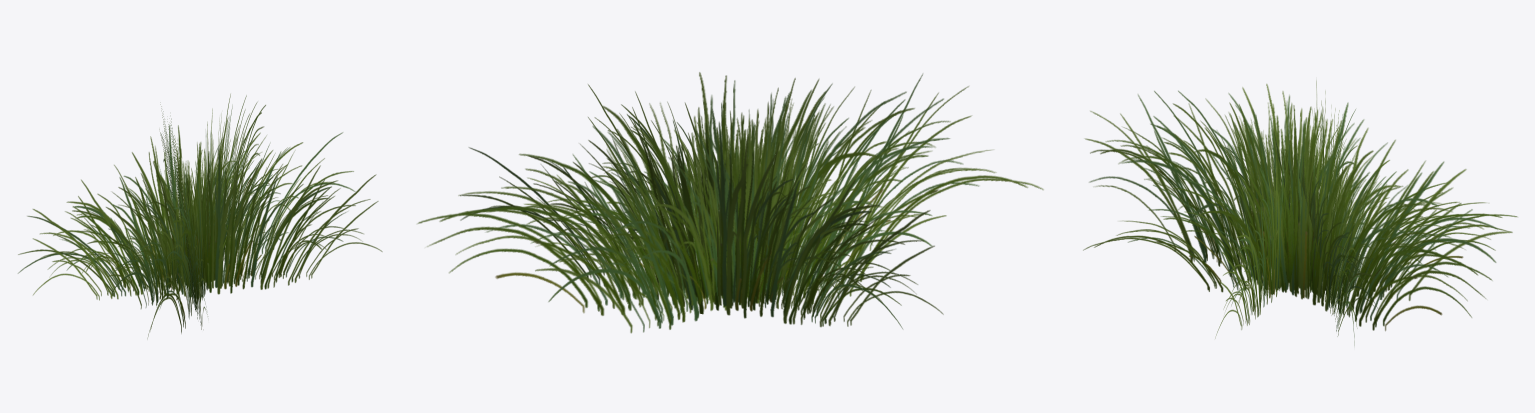
File: grass4.glb
The picture shows the model from 3 angles, left to right: view 1: azimuth 30°, elevation 25°; view 2: azimuth 150°, elevation 25°; view 3: azimuth 270°, elevation 25°; orthographic projection. The views are drawn at different scales.
Parts seen in each view (by area): view 1: Grass large 2_GrassAtlas_0; view 2: Grass large 2_GrassAtlas_0; view 3: Grass large 2_GrassAtlas_0.
Boxes of the visible parts, <box> form: Grass large 2_GrassAtlas_0: <box>18,94,382,338</box>; Grass large 2_GrassAtlas_0: <box>417,72,1043,333</box>; Grass large 2_GrassAtlas_0: <box>1083,80,1517,345</box>.
Size of the model in its own units: 0.7137 by 0.3544 by 0.6941.
1 material, 1 textured.
